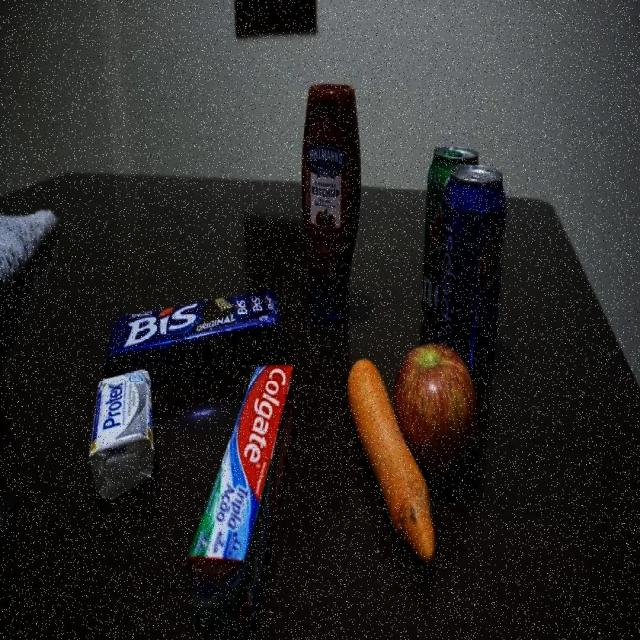Apple: (401, 348, 476, 482)
BeerCan: (423, 145, 443, 315)
Carrot: (345, 353, 398, 539)
Ketchup: (302, 83, 361, 328)
Soap: (95, 373, 156, 497)
SodaCan: (446, 166, 506, 345)
Toothpaste: (187, 369, 296, 626)
